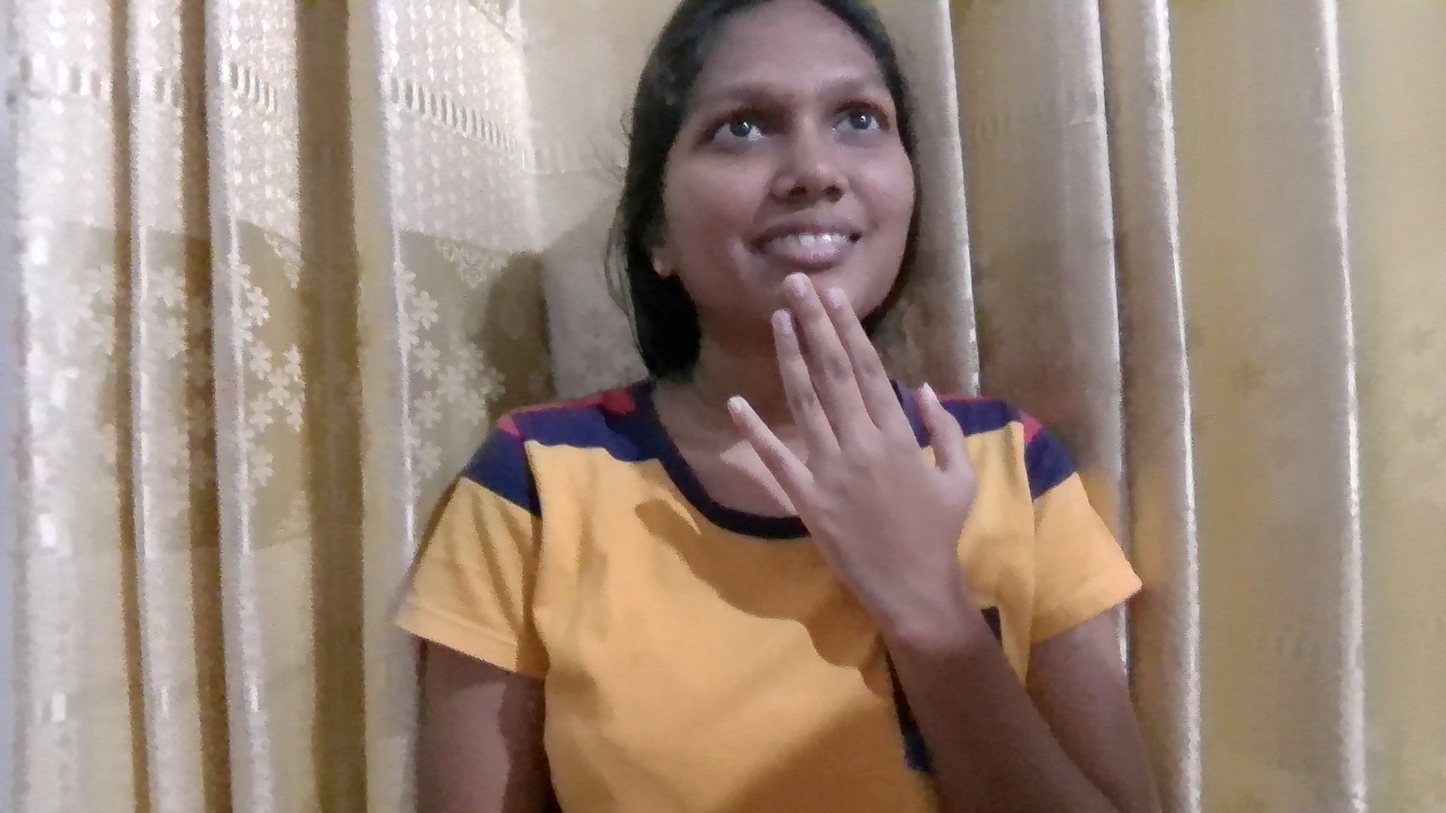Thank You: (665, 247, 1184, 614)
